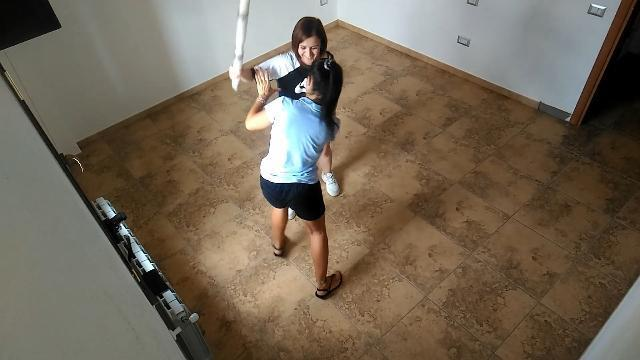violence: (232, 0, 360, 296)
